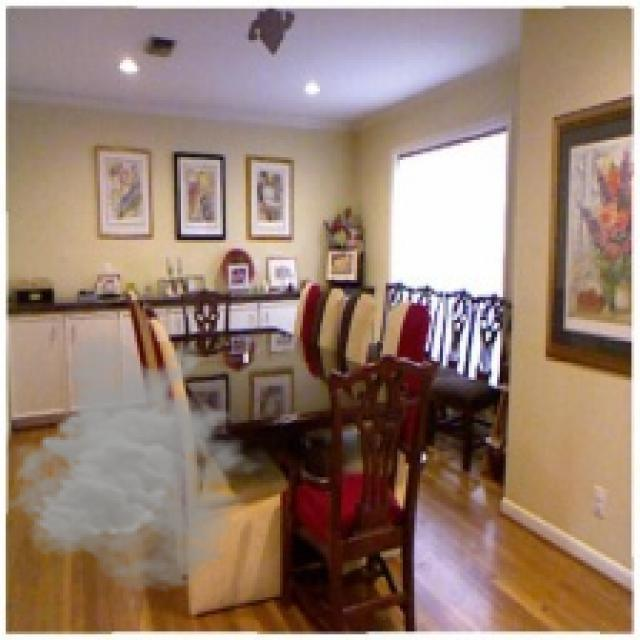Smoke: (2, 332, 272, 594)
